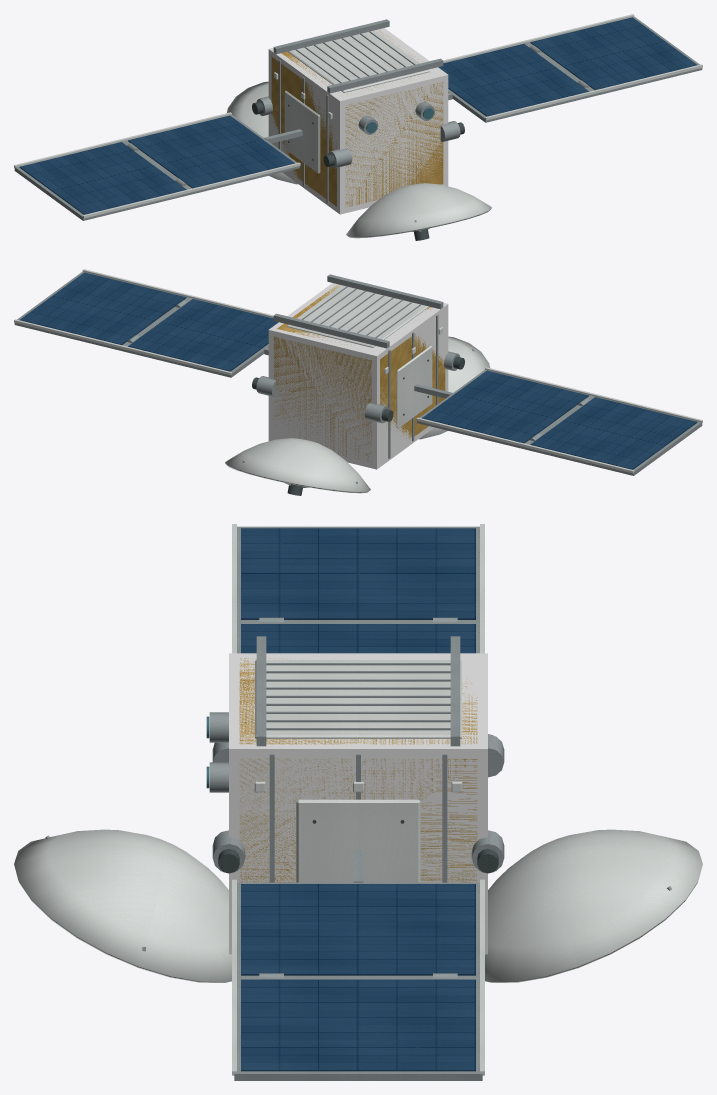
The model's file is RelaySatellite.fbx.
3 renders of one model, top to bottom at view 1: azimuth 30°, elevation 25°; view 2: azimuth 150°, elevation 25°; view 3: azimuth 270°, elevation 25°, orthographic. The views are drawn at different scales.
Visible parts, largest first — view 1: LOD0, COL_Static; view 2: LOD0, COL_Static; view 3: LOD0, COL_Static.
Part boxes in pixels (box(x1,y1,x2,y2)): LOD0: box(14, 14, 702, 240); COL_Static: box(268, 28, 448, 214); LOD0: box(14, 269, 702, 495); COL_Static: box(268, 283, 448, 469); LOD0: box(14, 524, 702, 1080); COL_Static: box(229, 653, 487, 954).
Size of what is drawn, in the model's own units: 1200 by 276 by 639.
